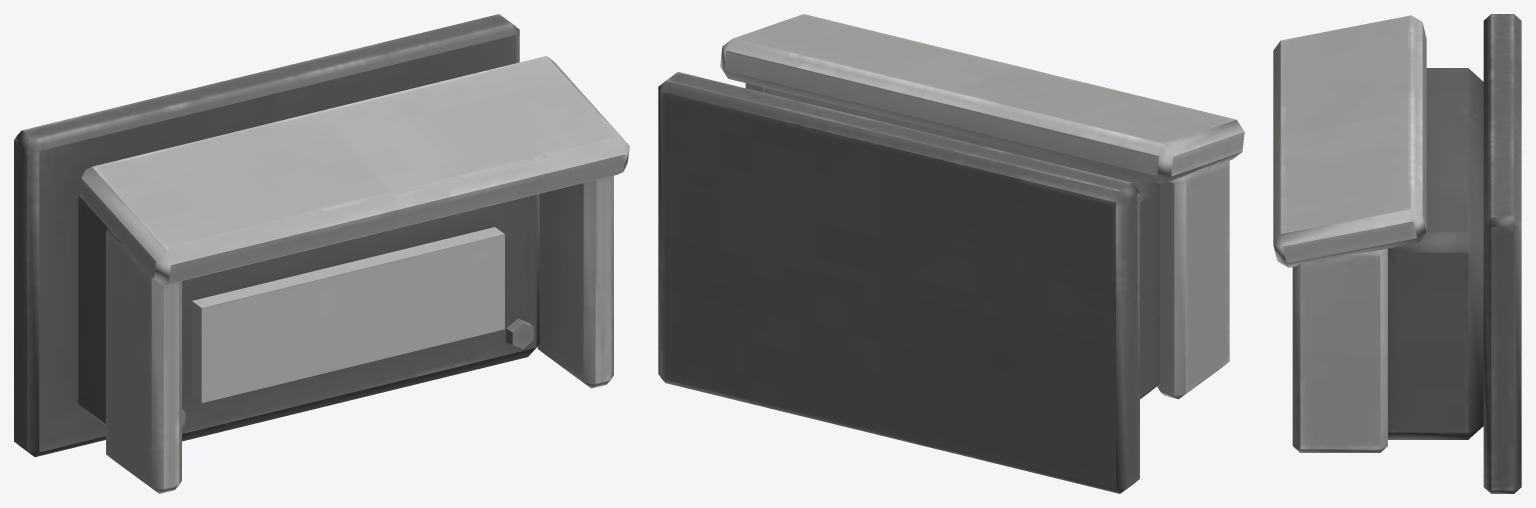
File: markerLamp.glb
3 views of the same model, side by side, from view 1: azimuth 30°, elevation 25°; view 2: azimuth 150°, elevation 25°; view 3: azimuth 270°, elevation 25° (orthographic). The views are drawn at different scales.
Parts seen in each view (by area): view 1: markerLamp; view 2: markerLamp; view 3: markerLamp.
Part boxes in pixels (<box>): markerLamp: <box>14,14,629,493</box>; markerLamp: <box>658,14,1244,493</box>; markerLamp: <box>1273,14,1521,493</box>.
Size of the model in its own units: 0.26 by 0.162 by 0.1302.
1 material, 1 textured.
